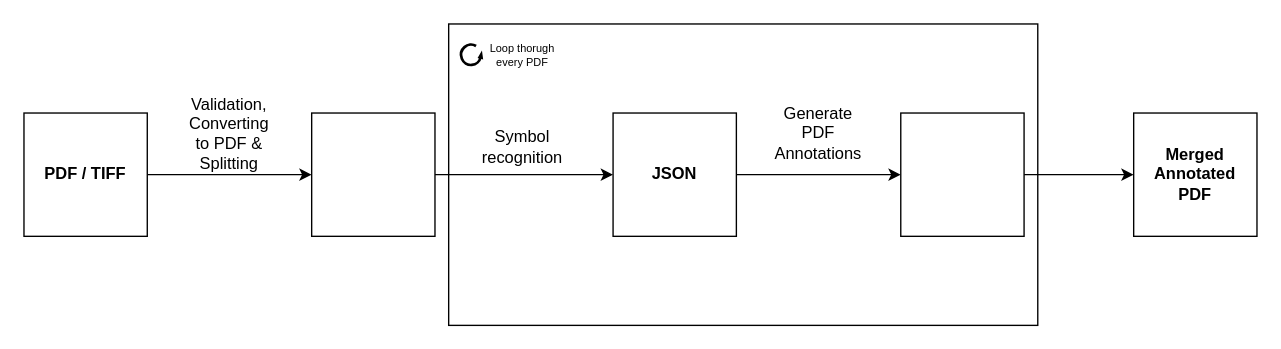
Some shapes in this 1281 by 349 pixel diagram are drawn without their labels. Each missing label, with the centre of its shape:
"Annotated PDF" belongs at [961,174].
"PNGs (1 PNG per page)" belongs at [372,174].
